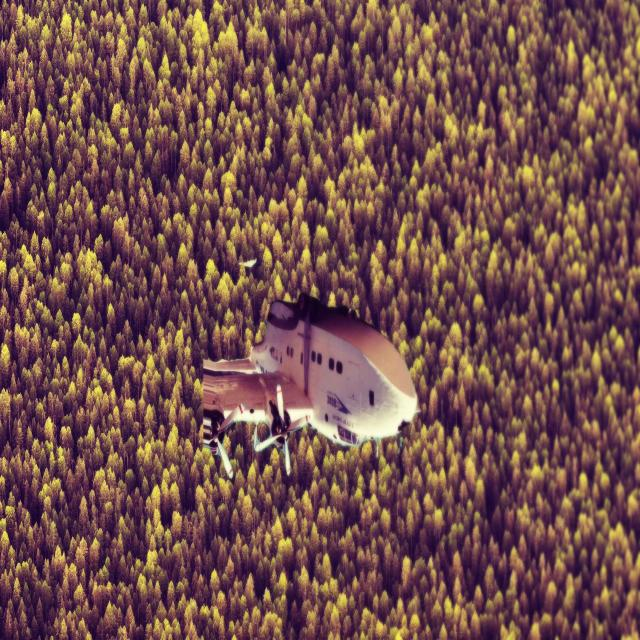airplane: (202, 292, 420, 479)
